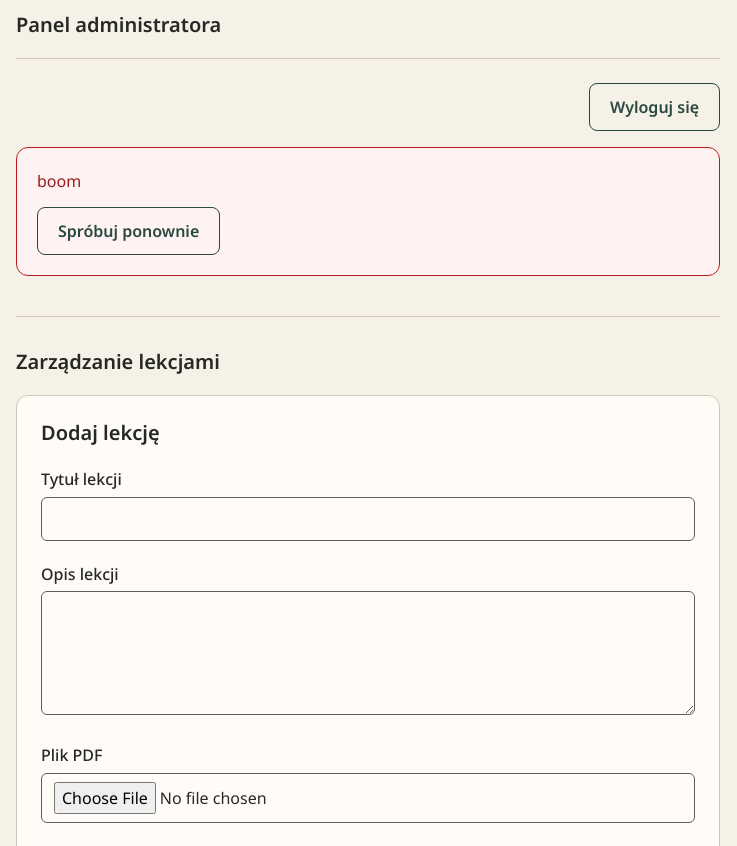
Test: AdminPage › retrying reloads the list and clears the error
Expected: the text "boom" is shown, [37,170,81,192]
Click the button "Spróbuj ponownie" at (129, 231), box [37,207,220,255]
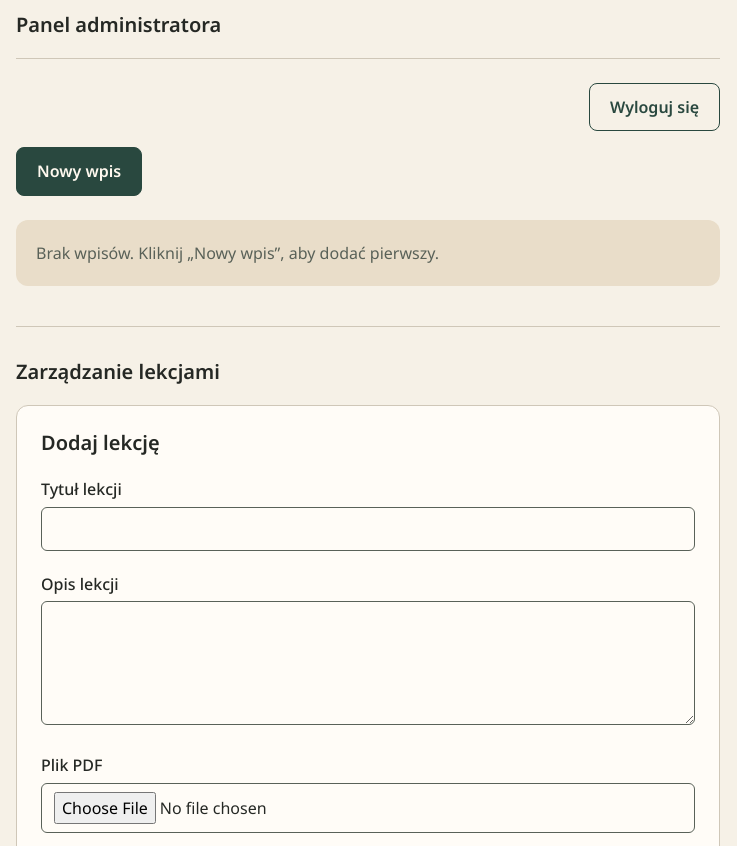
Expected: the text "boom" is gone
